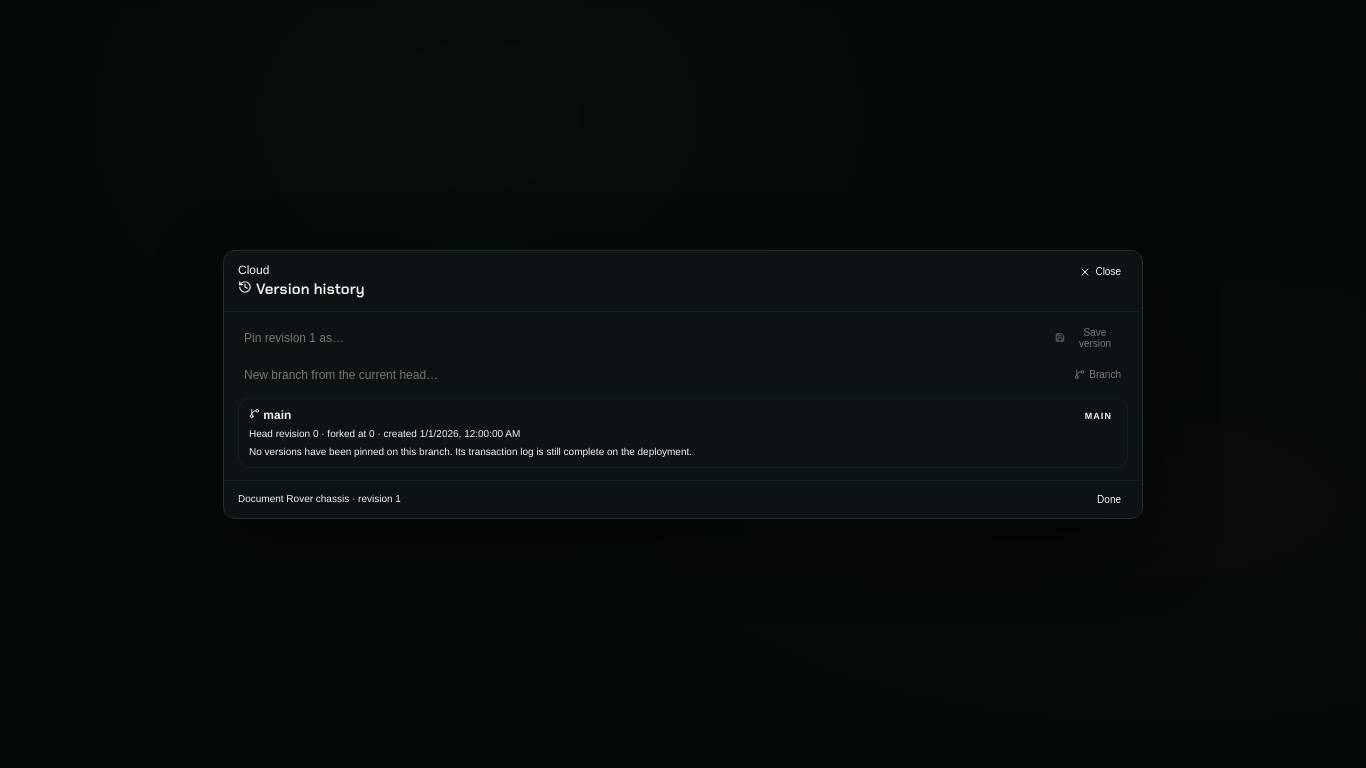
Scenario: Version history — the happy path › pins the current revision as an immutable version
The width and height of the screenshot is (1366, 768).
Expected: the element named "Branch main" is shown, [238,398,1128,468]
Step 1. Type "Before the roof" into the field named "Label for a new version of the current revision" → (641, 338), box [238,326,1044,348]
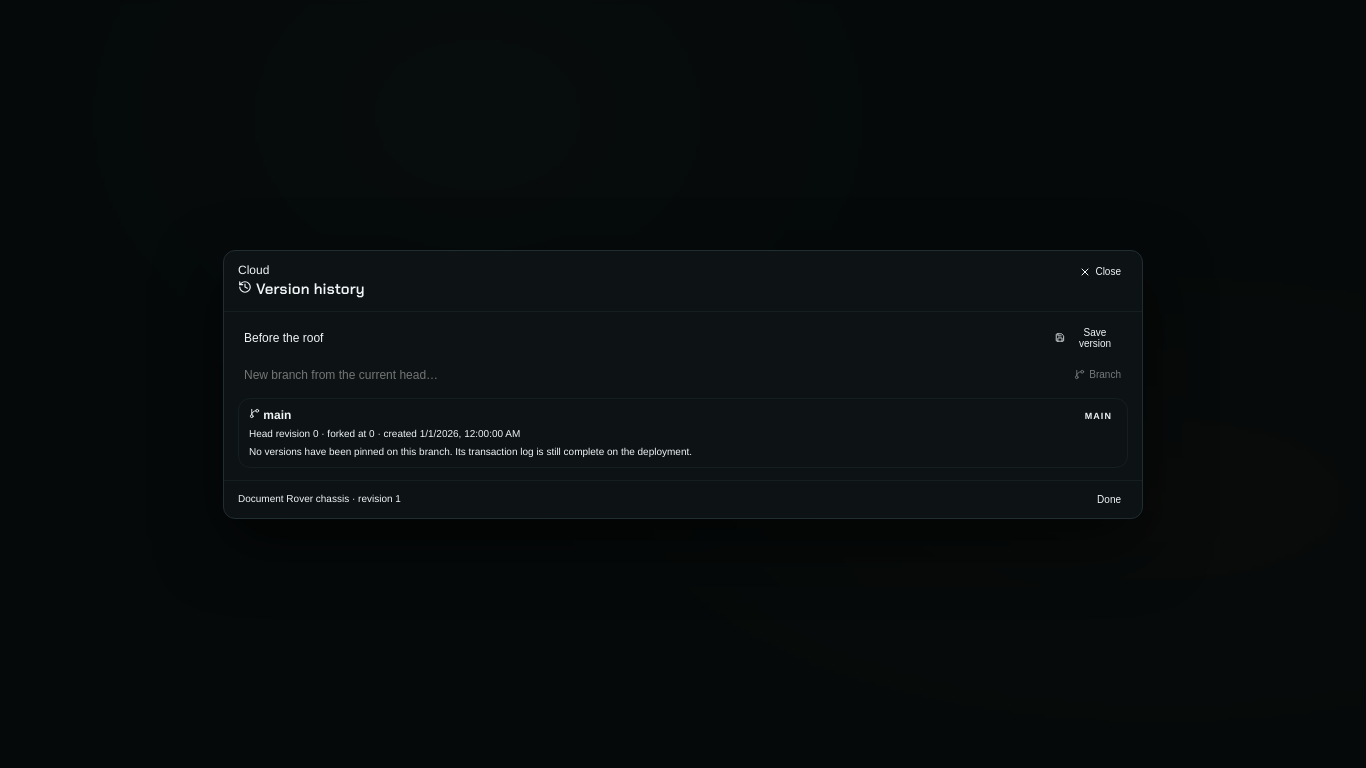
Step 2. Click the button "Save version" → (1088, 338), box [1048,324,1128,352]
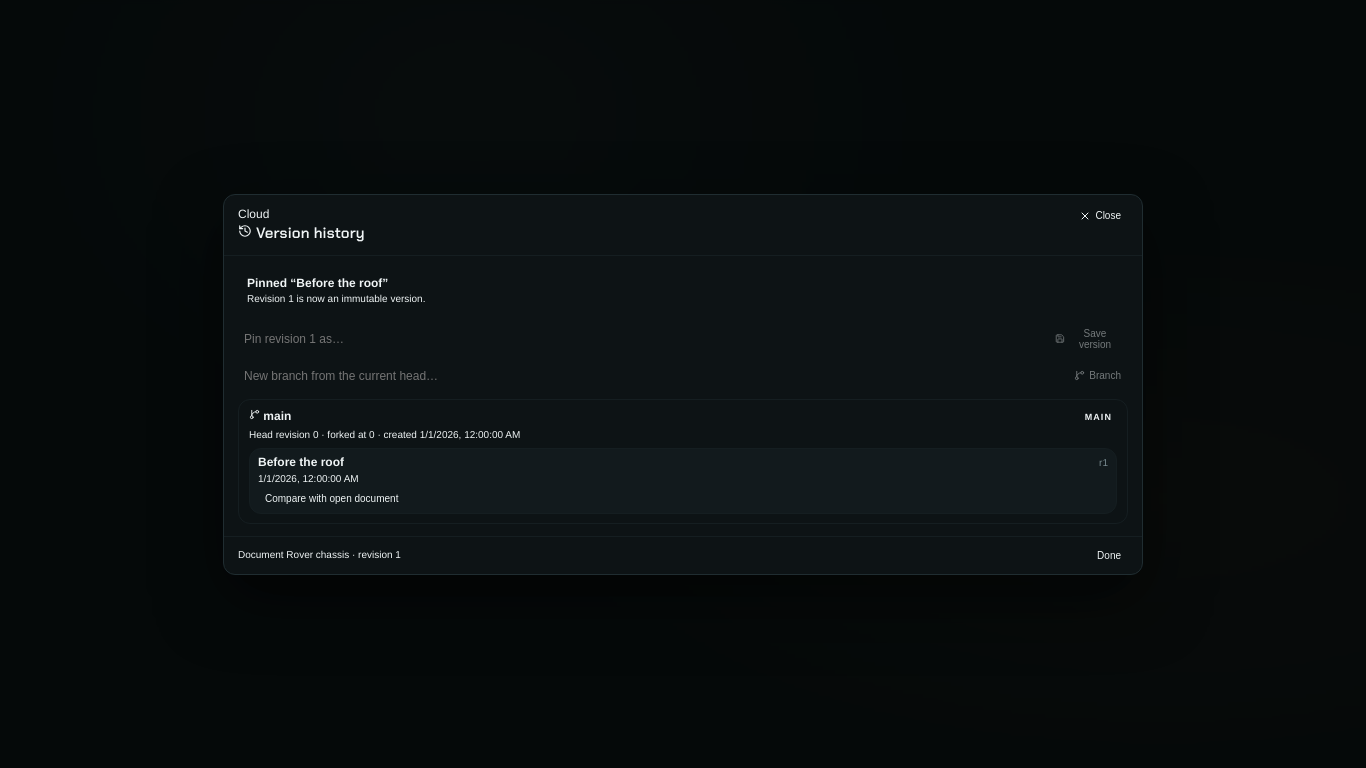
Now the text "Pinned “Before the roof”" is shown, box [247,276,388,290]
